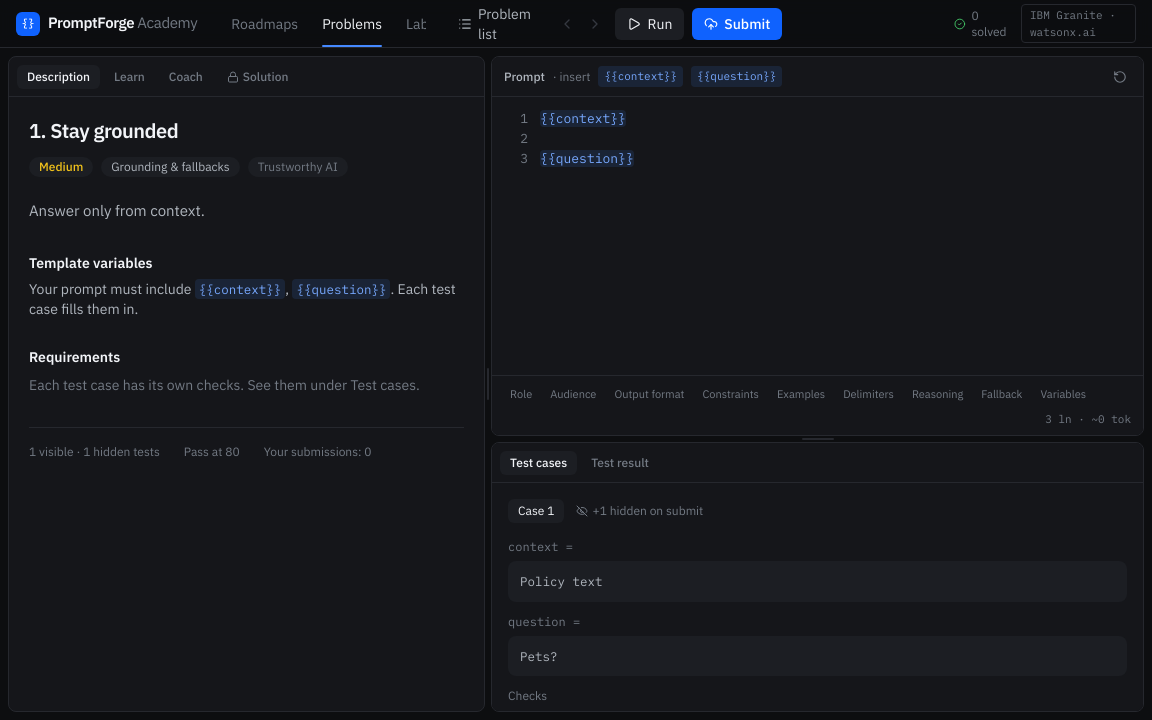
Test case: ChallengeWorkspace › keeps the solution locked until the learner has earned it
The image size is (1152, 720).
Expected: the text box named "Prompt editor" is shown, [492,97,1143,376]
Click the button "solution". click: (258, 76)
box: [217,64,298,88]
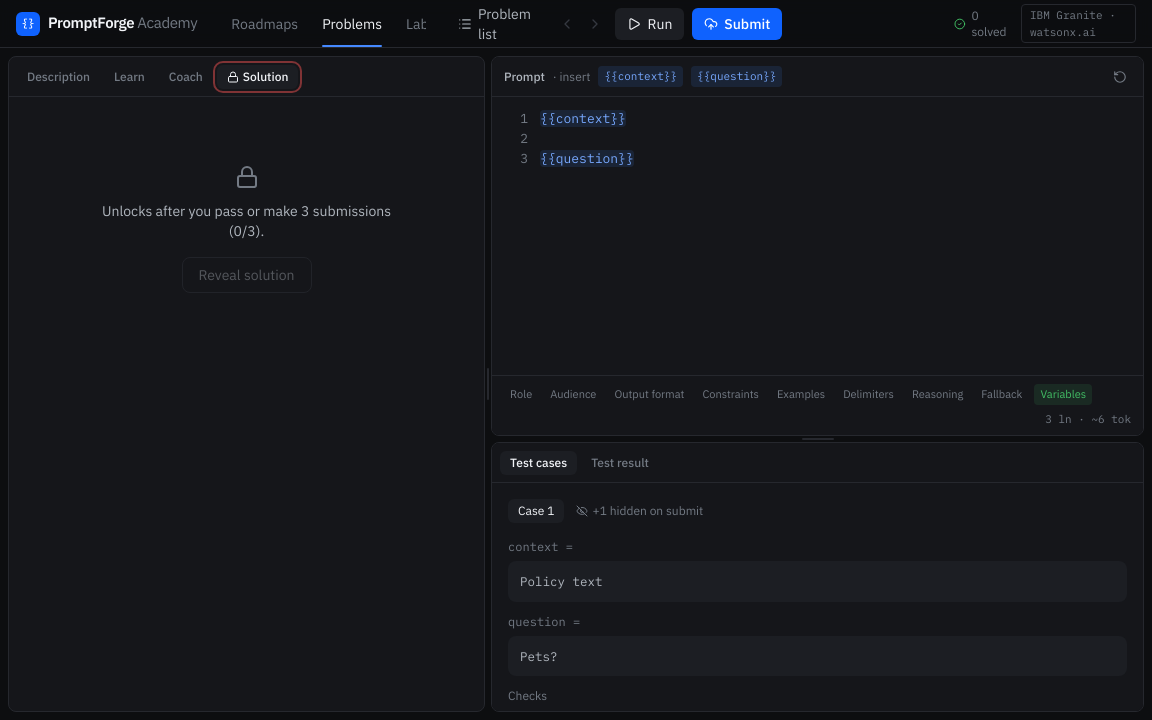
Expected: the button "Reveal solution" is disabled, [182,257,312,293]
Expected: the text "Unlocks after you pass or make 3 submissions (0/3)." is shown, [86,201,406,241]
